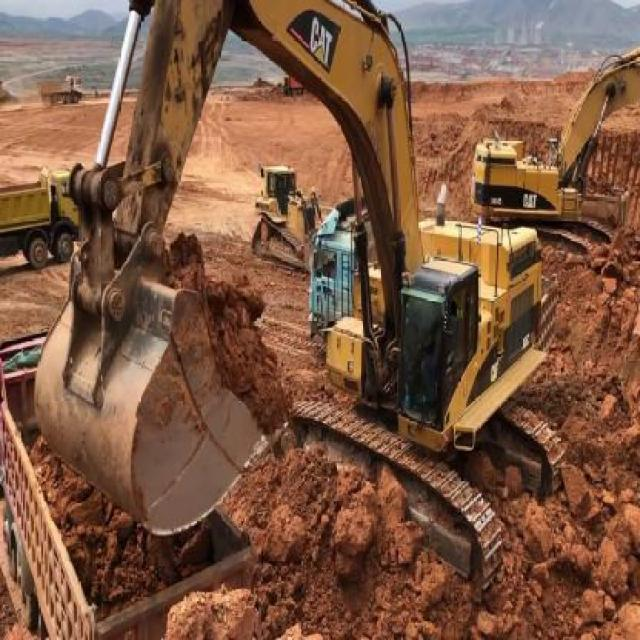dump_truck: (0, 325, 252, 639), (0, 168, 80, 264), (40, 73, 82, 105), (283, 72, 312, 96)
excavator: (32, 0, 551, 591), (470, 43, 638, 237)
